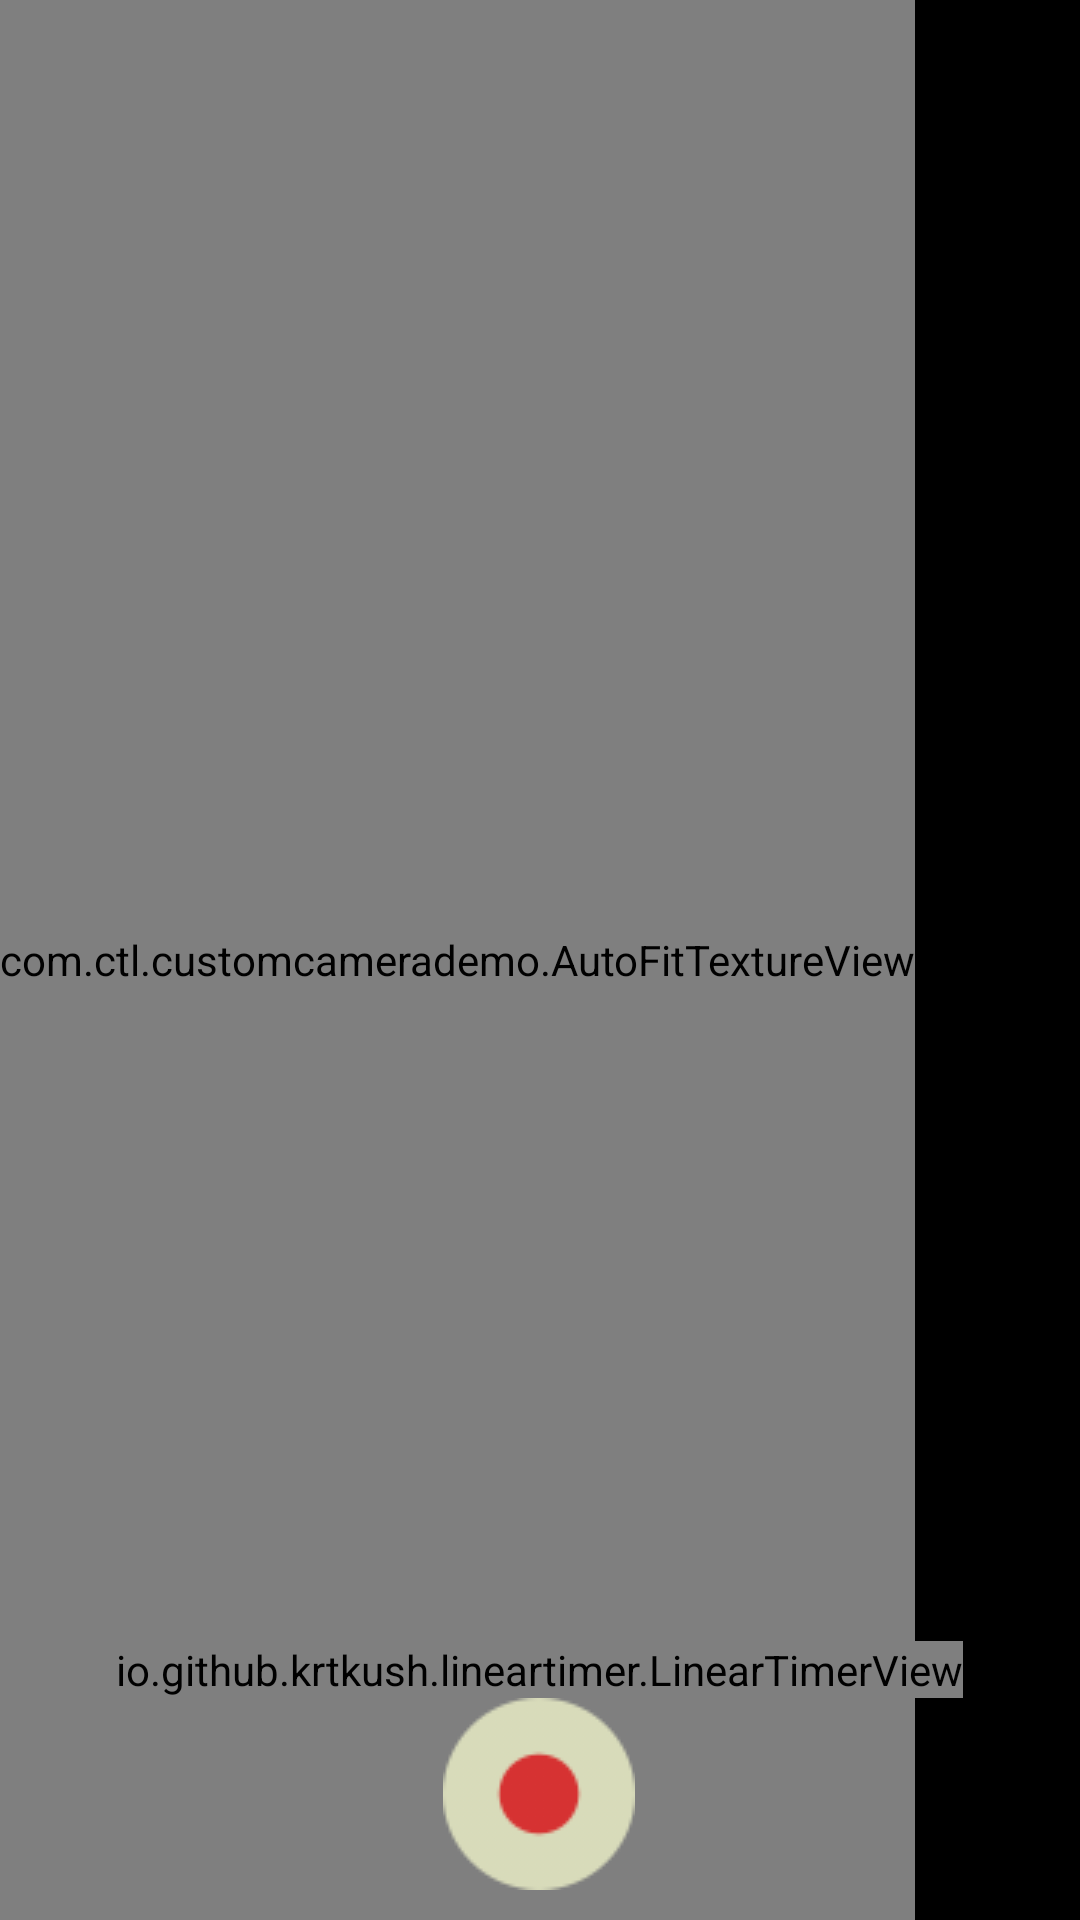

Where to tap for icons on this 1080w x 1920h app screen, as point (x, y):
circle: point (539, 1794)
